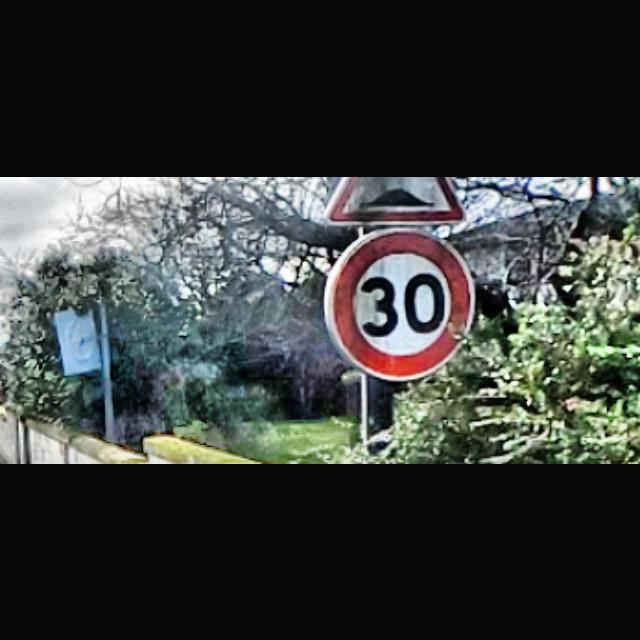speed_30: (324, 229, 476, 379)
